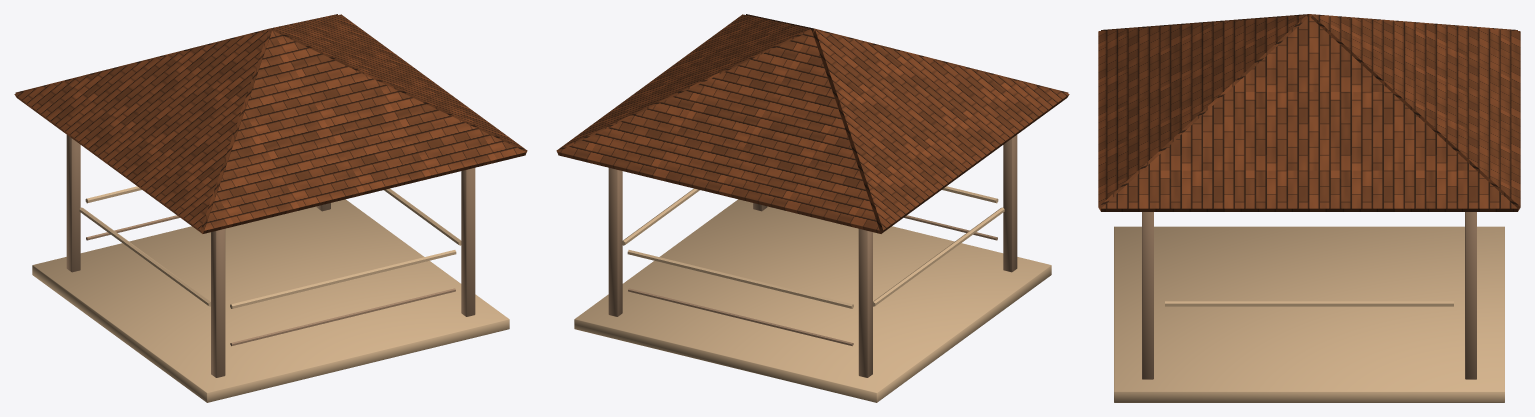
Rendered from Pavilion.fbx.
The picture shows the model from 3 angles, left to right: view 1: azimuth 30°, elevation 25°; view 2: azimuth 150°, elevation 25°; view 3: azimuth 270°, elevation 25°; orthographic projection. The views are drawn at different scales.
Parts seen in each view (by area): view 1: LOD0; view 2: LOD0; view 3: LOD0.
Part boxes in pixels (box(x1,y1,x2,y2)): LOD0: box(14, 14, 527, 402); LOD0: box(556, 14, 1069, 402); LOD0: box(1098, 14, 1520, 402).
Size of what is drawn, in the model's own units: 497 by 396 by 497.
